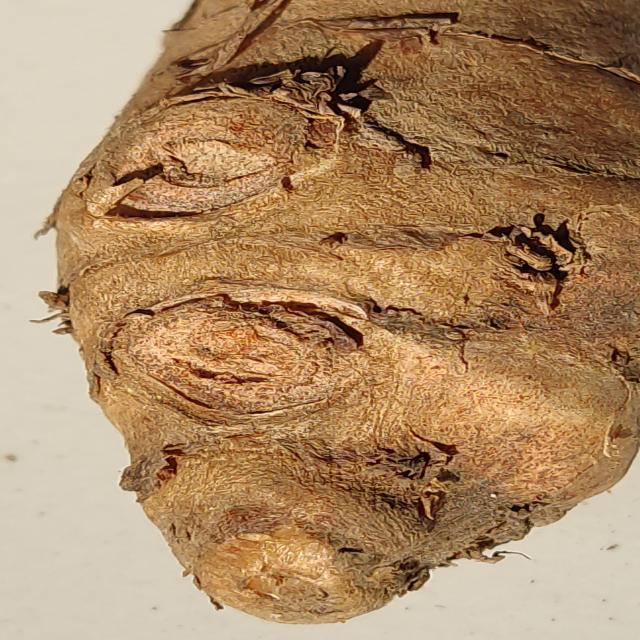ginger: (91, 0, 640, 593)
